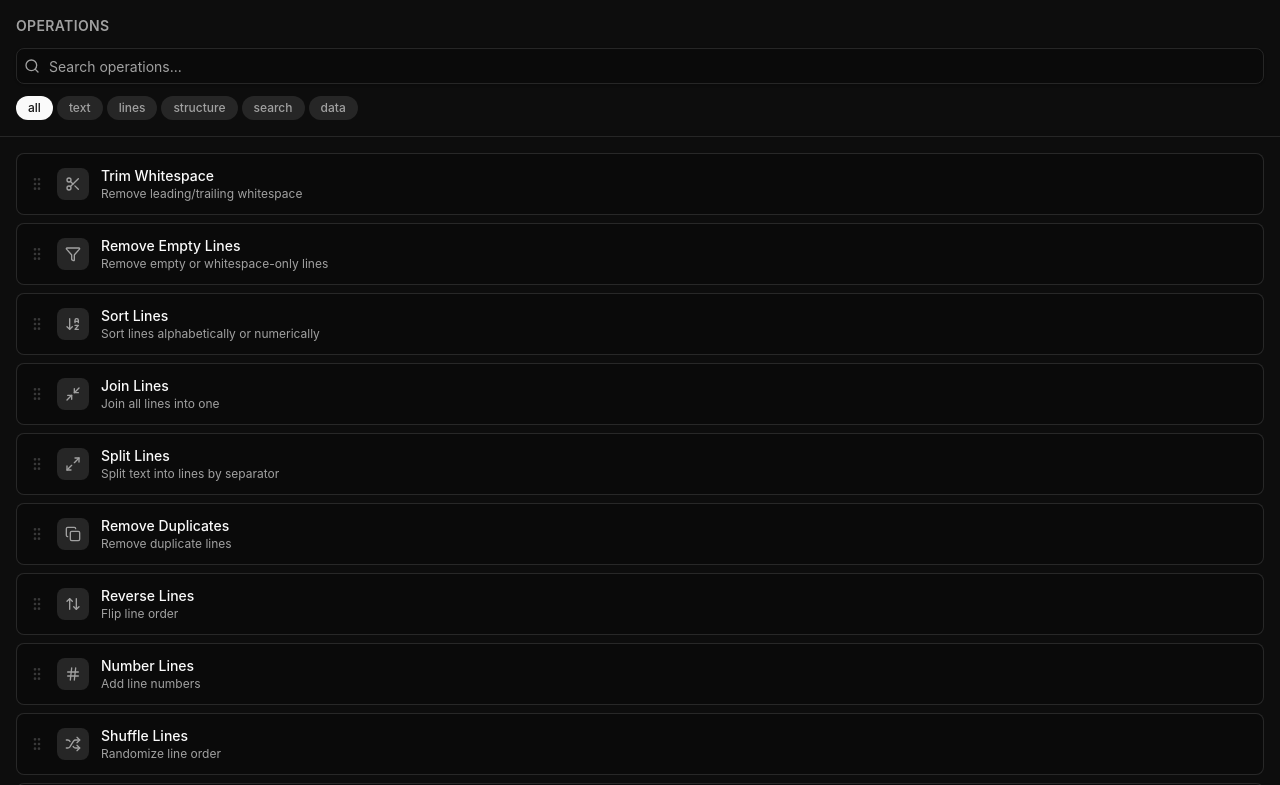
TransformerToolbox › should filter operations by categories
// Initially "All" is active, find "Text" category button
Click the button "text" at (80, 108), box x1=57 y1=96 x2=103 y2=120
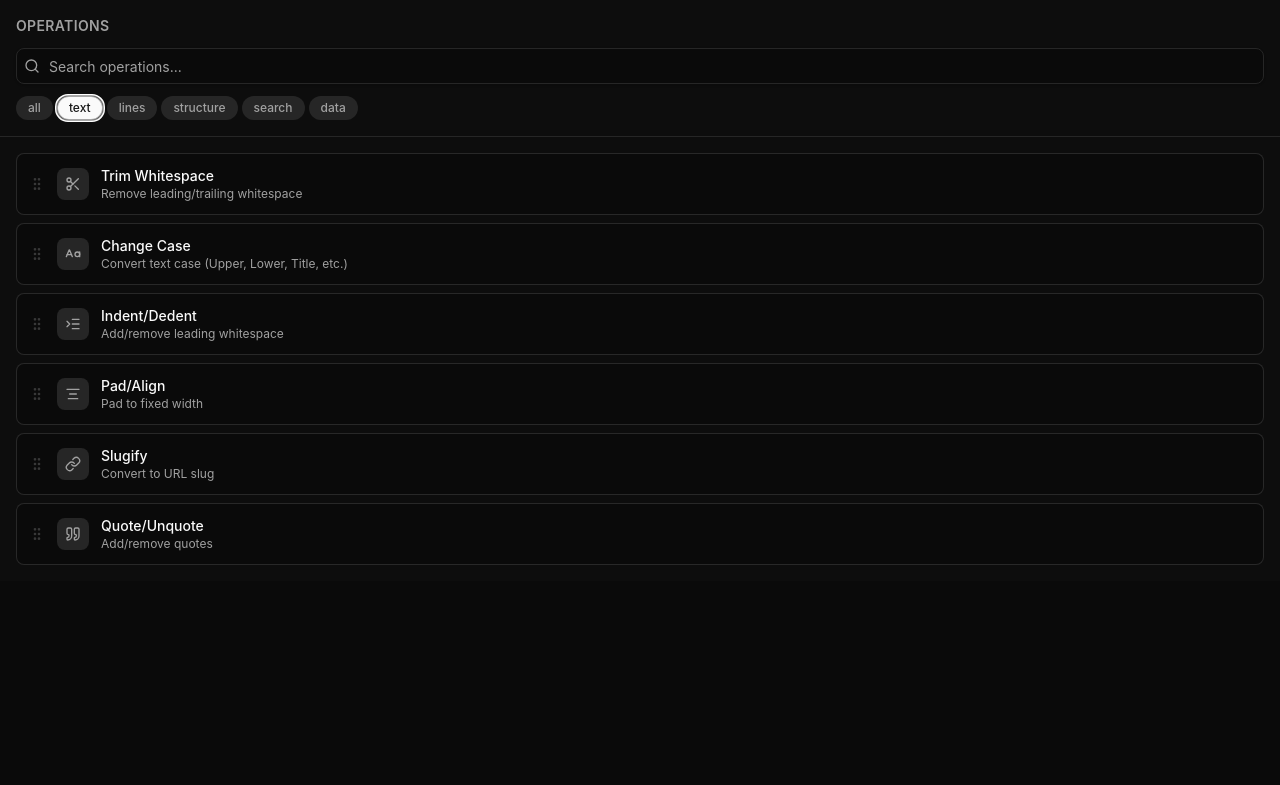
Expected: the text "Trim Whitespace" is shown, x1=101 y1=167 x2=214 y2=184
Expected: the button "Sort Lines" is gone
// Switch to "Lines" category
Click the button "lines" at (132, 108), box x1=107 y1=96 x2=157 y2=120
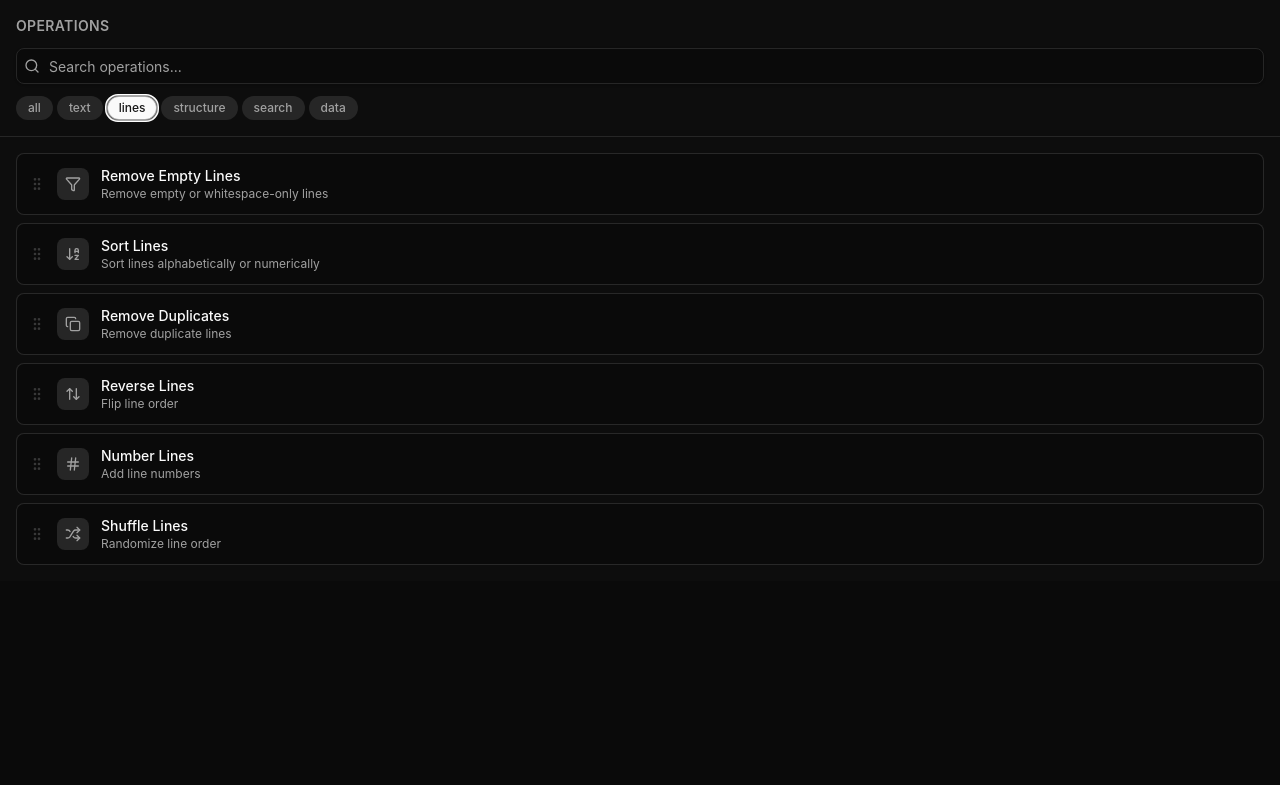
Expected: the text "Sort Lines" is shown, x1=101 y1=237 x2=168 y2=254
Expected: the button "Trim Whitespace" is gone
// Switch to "Structure" category
Click the button "structure" at (199, 108), box x1=161 y1=96 x2=238 y2=120
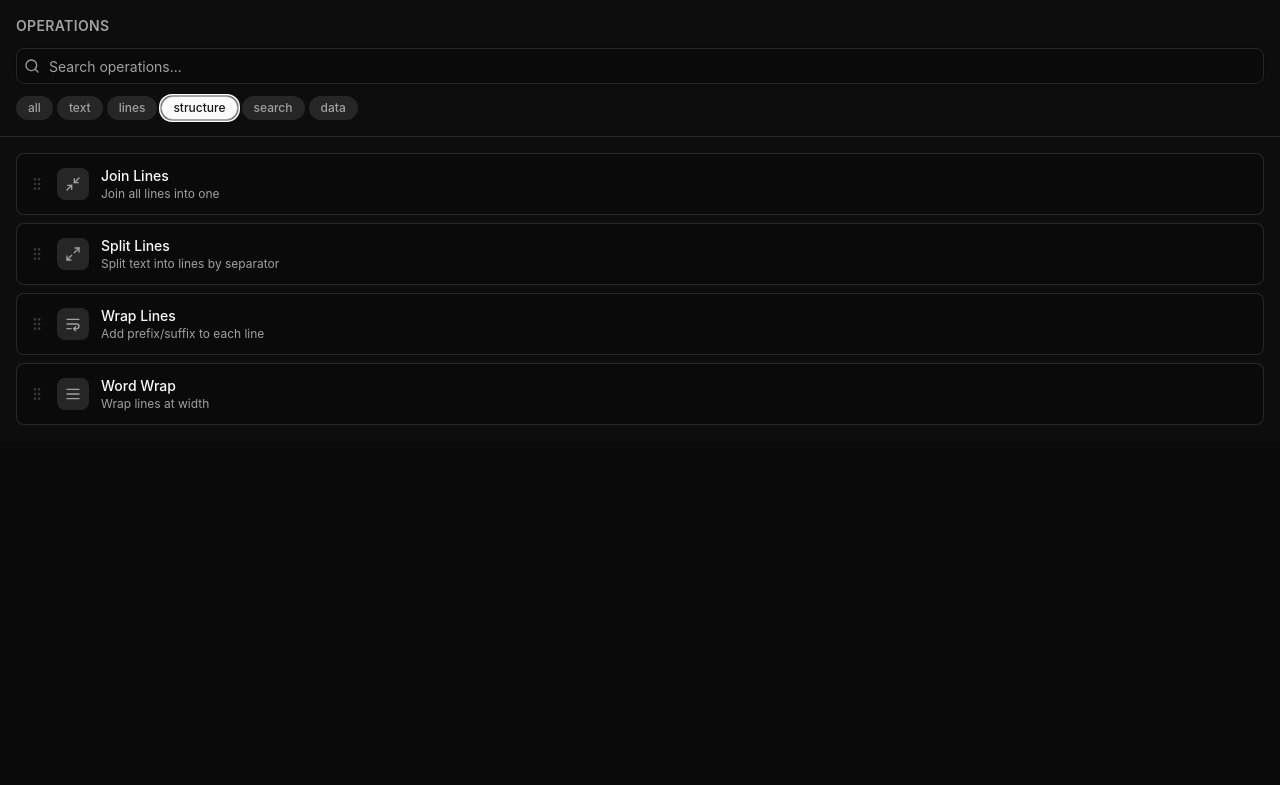
Expected: the text "Join Lines" is shown, x1=101 y1=167 x2=169 y2=184
Expected: the button "Sort Lines" is gone
